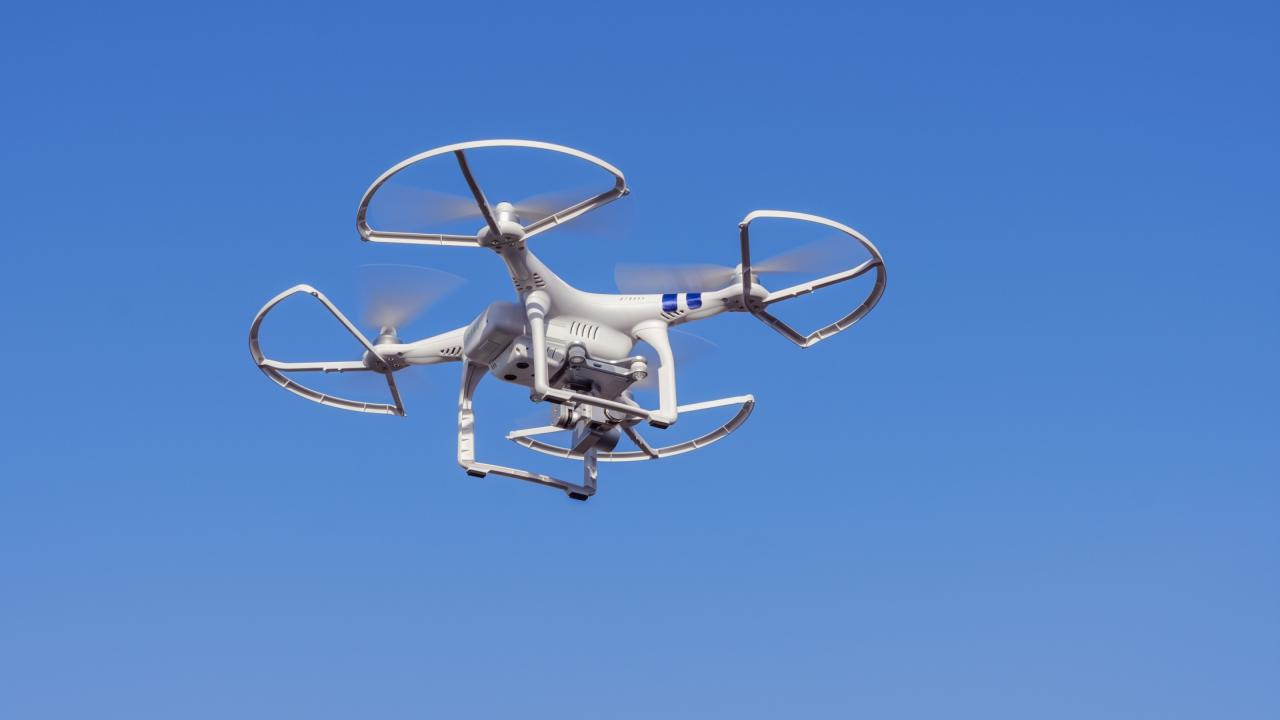Drone: (239, 131, 894, 509)
